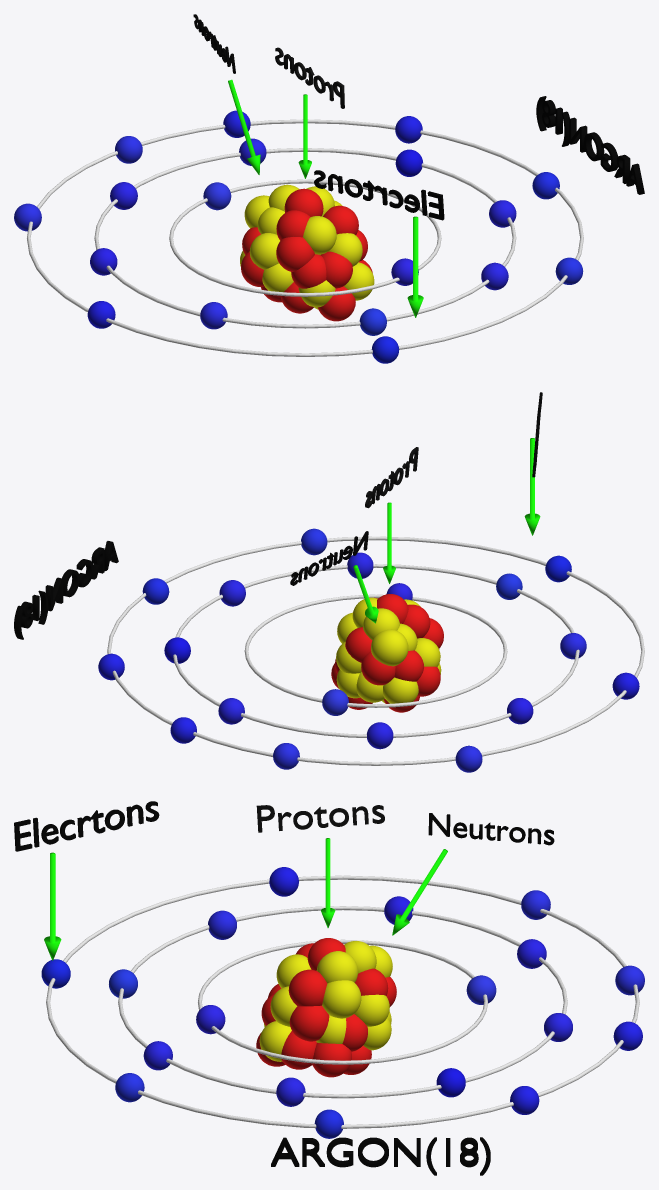
File: Argon Atomic Model.gltf
The picture shows the model from 3 angles, top to bottom: view 1: azimuth 30°, elevation 25°; view 2: azimuth 150°, elevation 25°; view 3: azimuth 270°, elevation 25°; orthographic projection. The views are drawn at different scales.
Parts seen in each view (by area): view 1: Sphere.031, Torus.003, Torus.002, Text.003, Torus.001, Text, Text.001, Cylinder.003, Sphere, Sphere.055, Sphere.008, Sphere.014 (+15 smaller); view 2: Sphere.031, Torus.003, Torus.002, Text.003, Torus.001, Text.002, Text.001, Sphere.012, Sphere.002, Sphere, Sphere.055, Sphere.015 (+12 smaller); view 3: Sphere.031, Torus.003, Torus.002, Text.003, Torus.001, Text, Text.001, Text.002, Cylinder.003, Sphere.013, Sphere.002, Sphere.004 (+16 smaller).
Part boxes in pixels (box(x1,y1,x2,y2)): Sphere.031: box(240, 184, 374, 321); Torus.003: box(27, 119, 583, 356); Torus.002: box(94, 148, 516, 328); Text.003: box(536, 96, 644, 194); Torus.001: box(169, 179, 441, 296); Text: box(314, 170, 444, 220); Text.001: box(275, 47, 344, 108); Cylinder.003: box(407, 216, 423, 317); Sphere: box(203, 182, 231, 210); Sphere.055: box(115, 136, 142, 163); Sphere.008: box(359, 308, 386, 335); Sphere.014: box(371, 336, 399, 363); Sphere.031: box(331, 594, 443, 712); Torus.003: box(107, 536, 644, 765); Torus.002: box(173, 564, 579, 737); Text.003: box(14, 541, 118, 639); Torus.001: box(244, 594, 507, 707); Text.002: box(290, 531, 368, 585); Text.001: box(365, 447, 418, 508); Sphere.012: box(455, 745, 482, 772); Sphere.002: box(367, 722, 393, 749); Sphere: box(322, 689, 348, 715); Sphere.055: box(273, 743, 299, 769); Sphere.015: box(301, 528, 327, 555); Sphere.031: box(256, 938, 396, 1077); Torus.003: box(46, 875, 639, 1128); Torus.002: box(118, 906, 567, 1098); Text.003: box(271, 1137, 490, 1175); Torus.001: box(198, 939, 487, 1064); Text: box(14, 801, 159, 851); Text.001: box(256, 805, 384, 832); Text.002: box(428, 813, 554, 845); Cylinder.003: box(44, 852, 61, 960); Sphere.013: box(269, 867, 298, 896); Sphere.002: box(517, 939, 546, 968); Sphere.004: box(276, 1077, 305, 1106).
Bounding box in the file's own units: 8.53 × 3.6 × 7.97.
